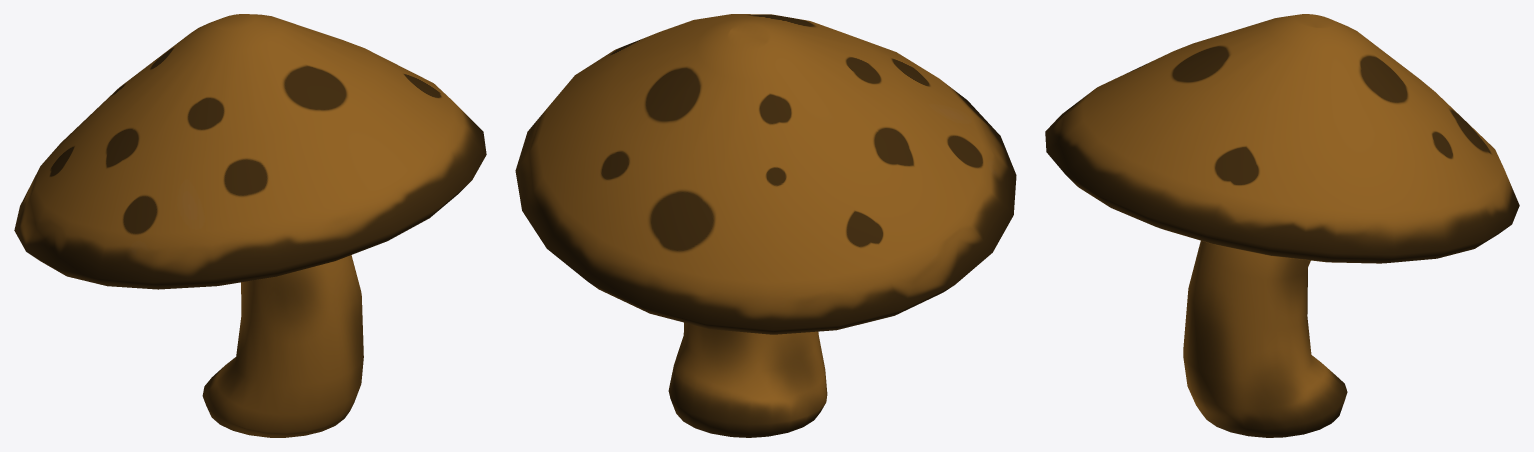
Rendered from Hongo_002_LOD.fbx.
The picture shows the model from 3 angles, left to right: view 1: azimuth 30°, elevation 25°; view 2: azimuth 150°, elevation 25°; view 3: azimuth 270°, elevation 25°; orthographic projection. The views are drawn at different scales.
Parts seen in each view (by area): view 1: Hongo_02_LOD0; view 2: Hongo_02_LOD0; view 3: Hongo_02_LOD0.
Part boxes in pixels (<box>): Hongo_02_LOD0: <box>14,14,486,437</box>; Hongo_02_LOD0: <box>515,14,1016,437</box>; Hongo_02_LOD0: <box>1045,14,1519,437</box>.
Size of what is drawn, in the model's own units: 650 by 583 by 647.
